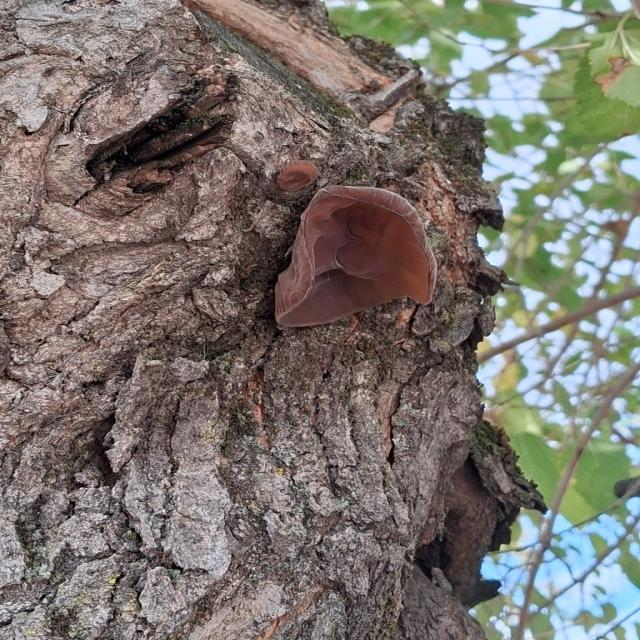Fase Muda: (266, 154, 322, 199)
Matang: (301, 182, 448, 356)
